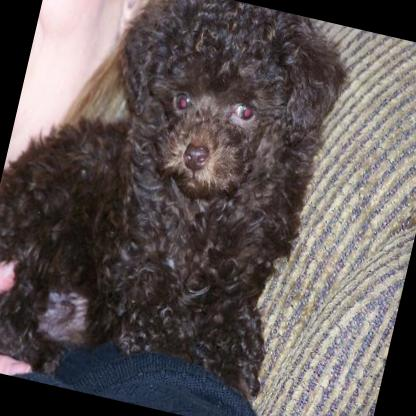toy_poodle: (0, 0, 360, 416)
